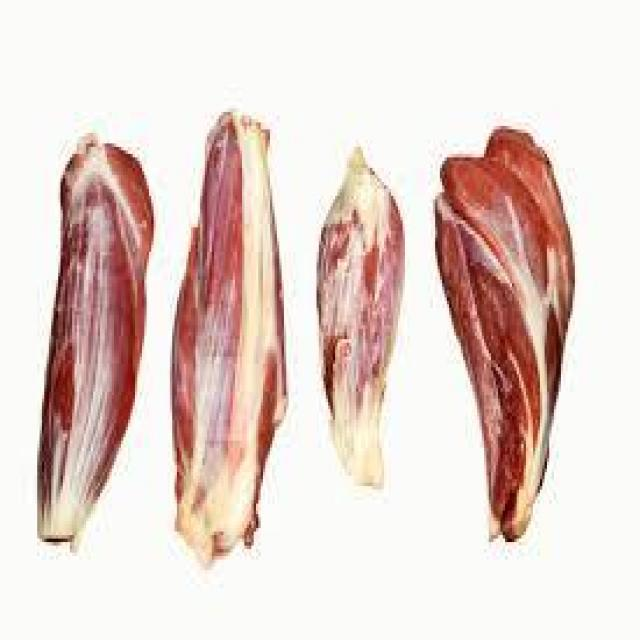Beef: (38, 138, 160, 577)
